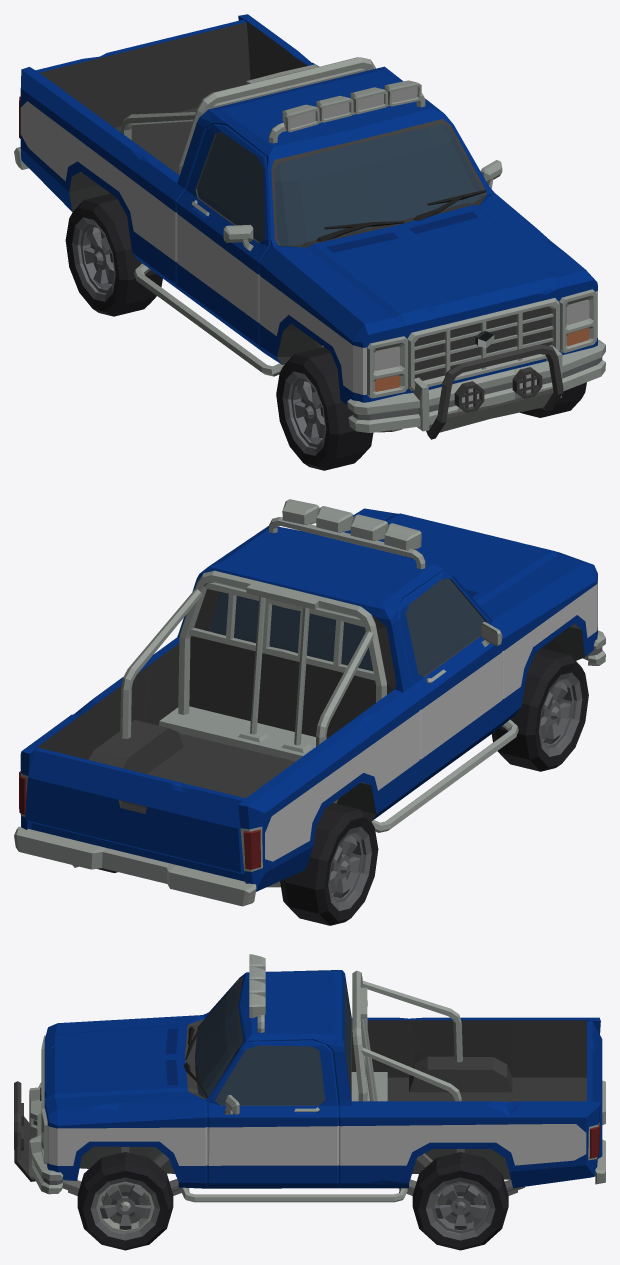
File: pickup.glb
3 views of the same model, one above another, from view 1: azimuth 30°, elevation 25°; view 2: azimuth 150°, elevation 25°; view 3: azimuth 270°, elevation 25° (orthographic). The views are drawn at different scales.
Visible parts, largest first — view 1: SM_Veh_Pickup_01, SM_Veh_Pickup_Glass, SM_Veh_Pickup_Wheel_fr, SM_Veh_Pickup_Wheel_rr, SM_Veh_Pickup_Wheel_fl; view 2: SM_Veh_Pickup_01, SM_Veh_Pickup_Glass, SM_Veh_Pickup_Wheel_rr, SM_Veh_Pickup_Wheel_fr; view 3: SM_Veh_Pickup_01, SM_Veh_Pickup_Glass, SM_Veh_Pickup_Wheel_fl, SM_Veh_Pickup_Wheel_rl.
Boxes of the visible parts, x1,y1,x2,y2 form: SM_Veh_Pickup_01: [14, 14, 605, 439]; SM_Veh_Pickup_Glass: [197, 124, 482, 245]; SM_Veh_Pickup_Wheel_fr: [276, 347, 373, 470]; SM_Veh_Pickup_Wheel_rr: [65, 193, 162, 316]; SM_Veh_Pickup_Wheel_fl: [520, 382, 586, 417]; SM_Veh_Pickup_01: [14, 499, 605, 906]; SM_Veh_Pickup_Glass: [209, 579, 485, 676]; SM_Veh_Pickup_Wheel_rr: [280, 803, 378, 925]; SM_Veh_Pickup_Wheel_fr: [491, 648, 588, 771]; SM_Veh_Pickup_01: [14, 954, 605, 1204]; SM_Veh_Pickup_Glass: [194, 980, 350, 1104]; SM_Veh_Pickup_Wheel_fl: [77, 1152, 173, 1250]; SM_Veh_Pickup_Wheel_rl: [412, 1152, 508, 1250].
Size of the model in its own units: 1.98 by 1.92 by 4.6.
